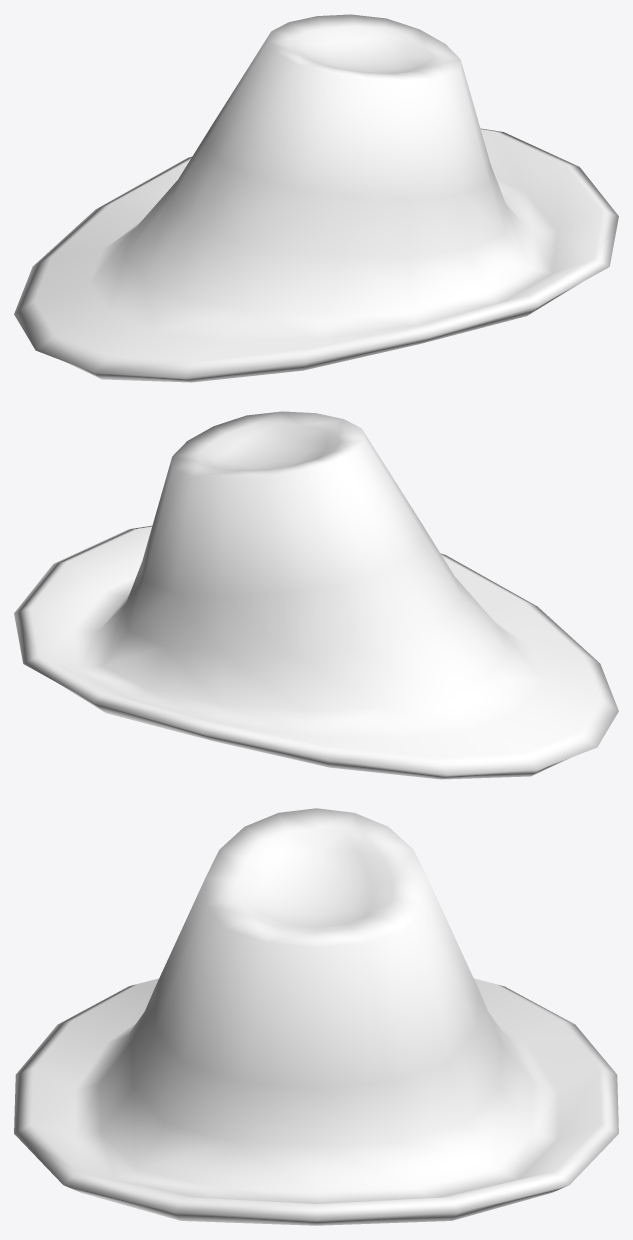
File: fedora.fbx
3 renders of one model, top to bottom at view 1: azimuth 30°, elevation 25°; view 2: azimuth 150°, elevation 25°; view 3: azimuth 270°, elevation 25°, orthographic. The views are drawn at different scales.
Visible parts, largest first — view 1: Plane; view 2: Plane; view 3: Plane.
Boxes of the visible parts, x1,y1,x2,y2 form: Plane: (14,14,618,382); Plane: (14,411,618,779); Plane: (14,808,618,1225).
Size of the model in its own units: 124 by 53.74 by 96.46.
